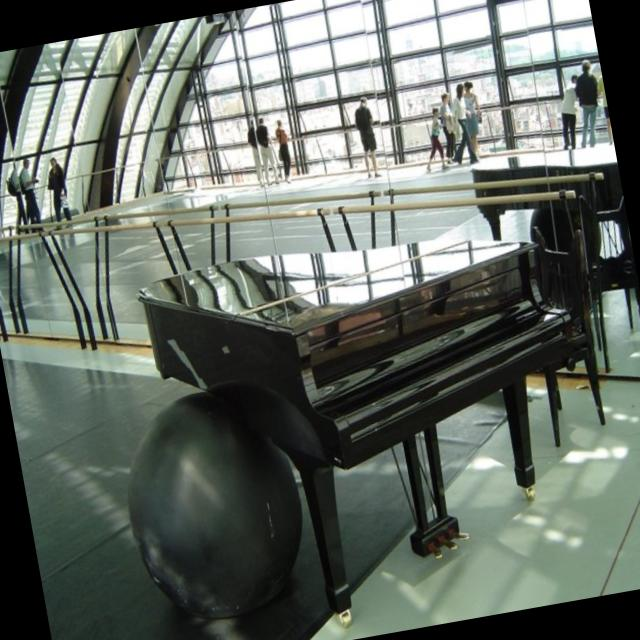Ball: (111, 378, 320, 635)
